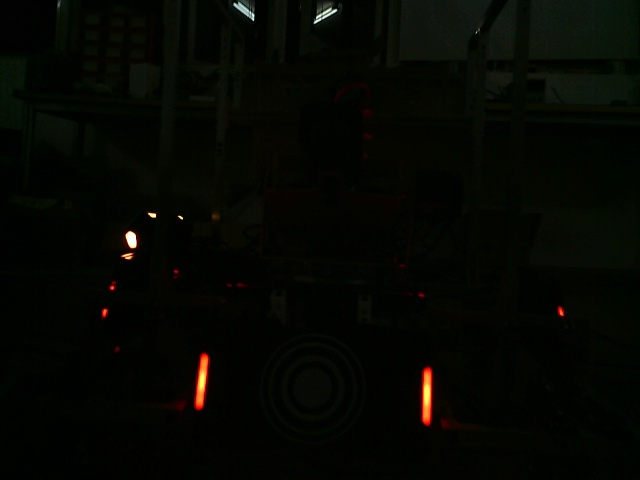lamp: (194, 351, 210, 410), (421, 366, 432, 424)
